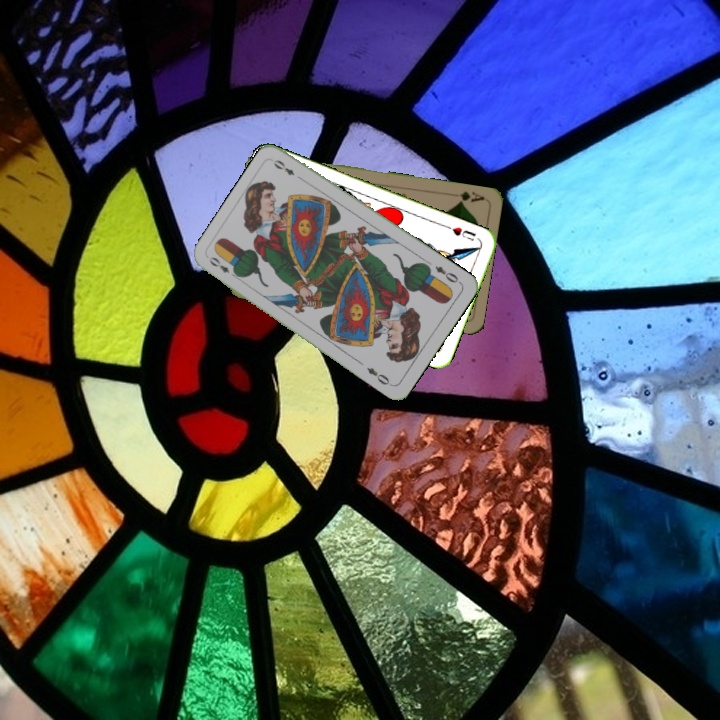EO: (205, 253, 241, 281), (431, 262, 464, 287)
GA: (446, 187, 487, 206)
HU: (443, 222, 479, 243)
